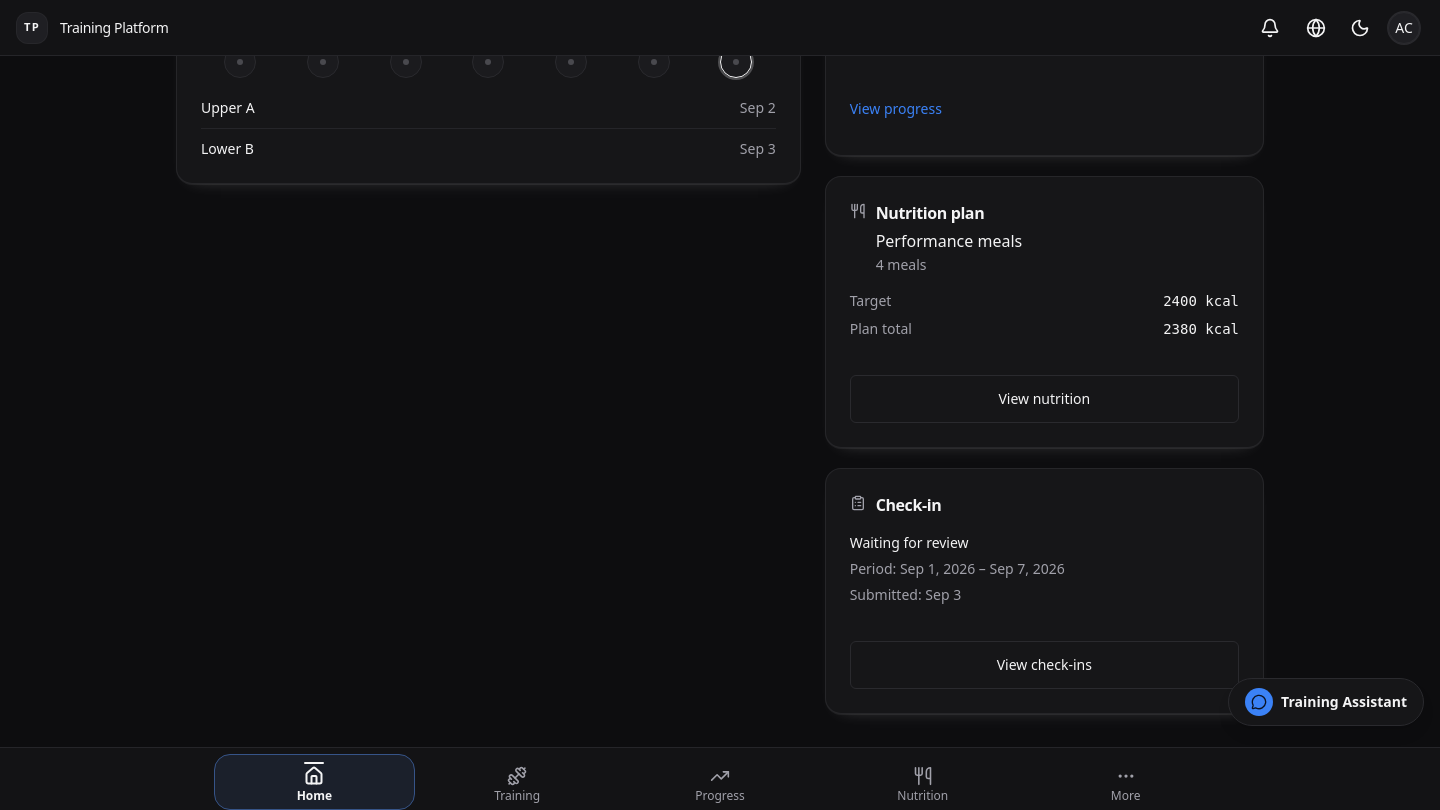
it: Client check-ins › reaches check-ins from the dashboard CTA
(page scrolled)
Click the link "View check-ins": coordinates (1044, 665) [850, 641, 1239, 689]
(page scrolled)
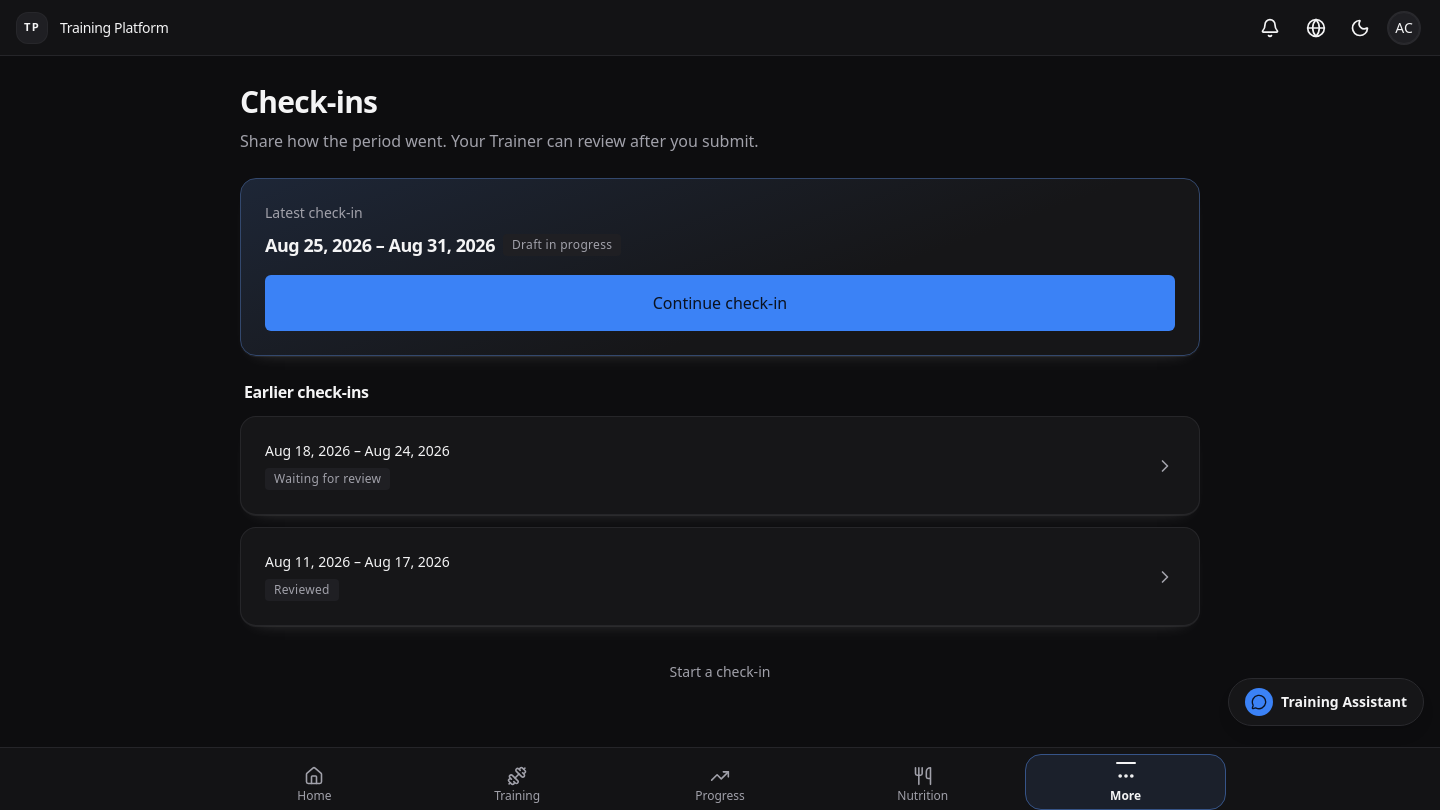
expect the heading "Check-ins" is shown: met, box [240, 81, 377, 122]
